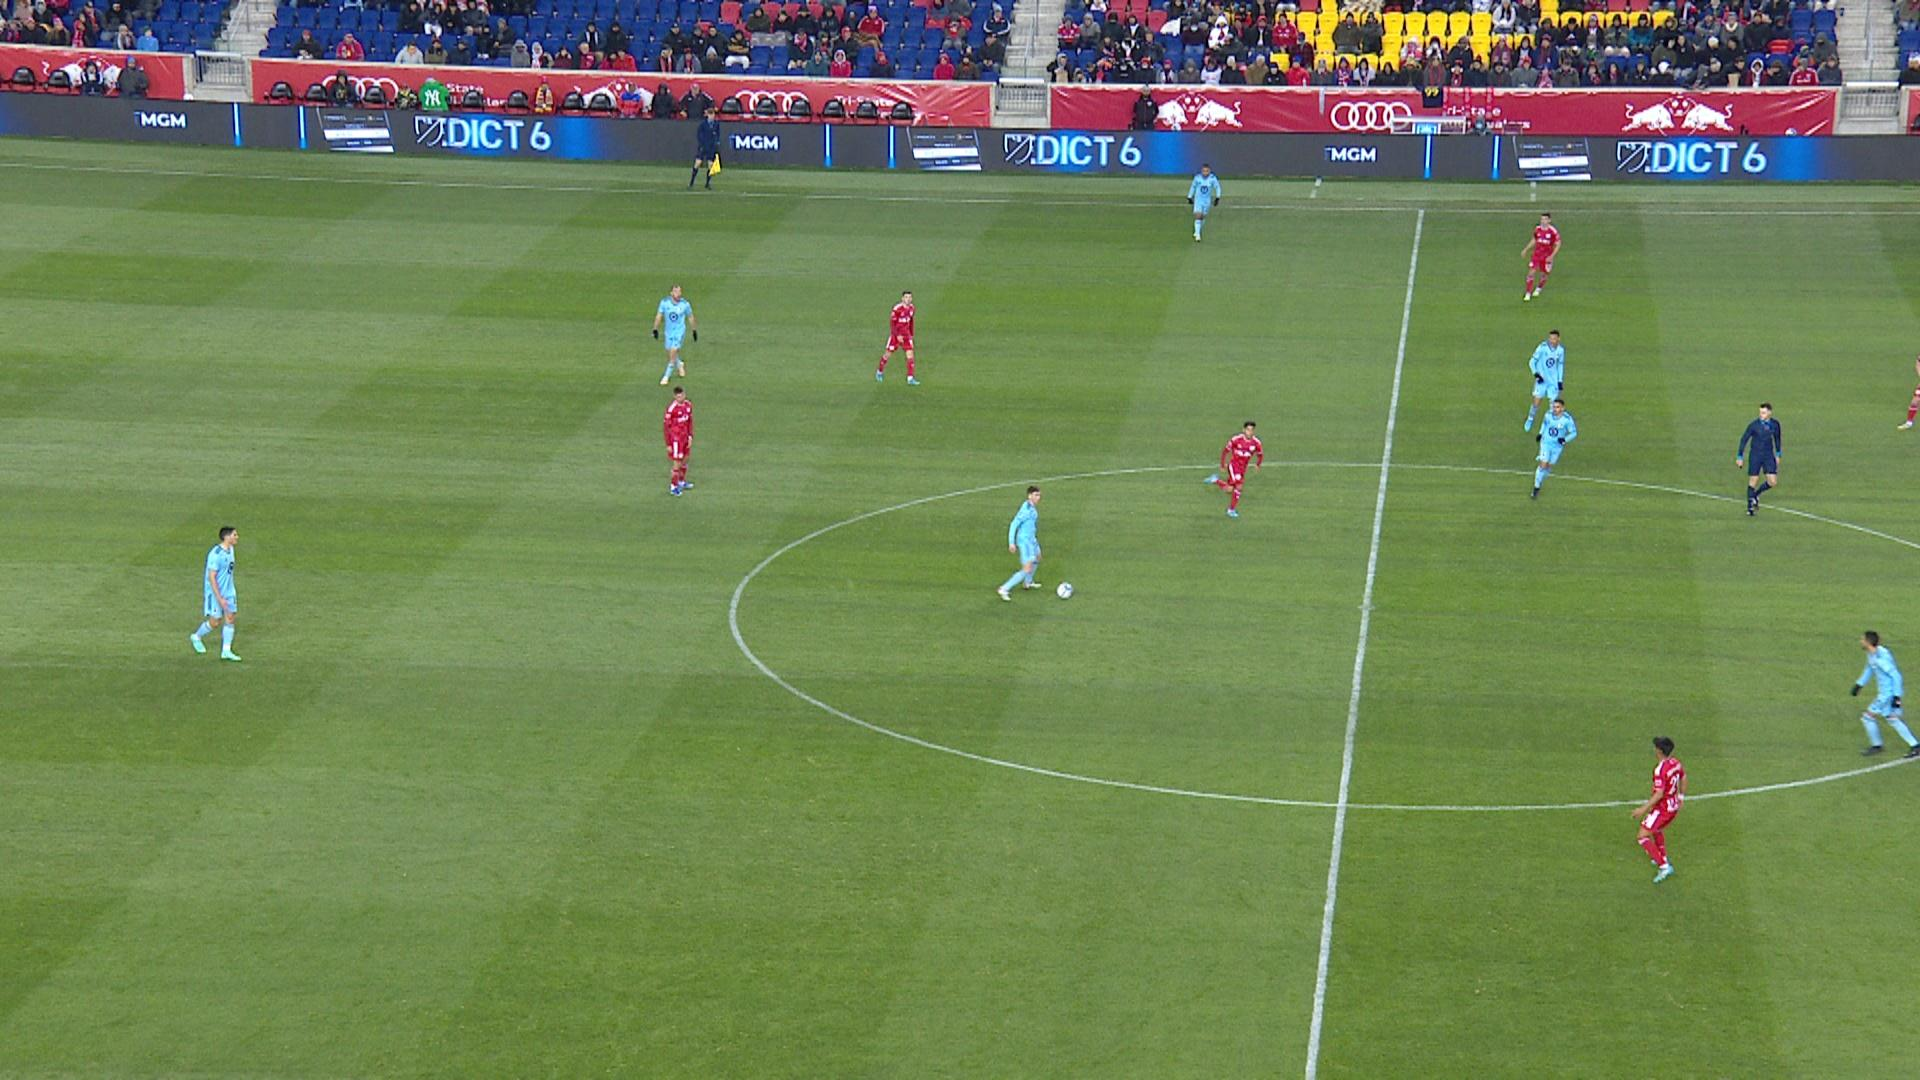football: (1056, 580, 1073, 600)
